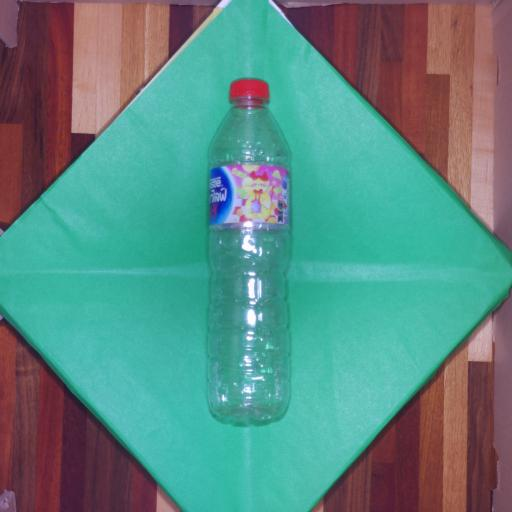bottle: (191, 64, 304, 449)
